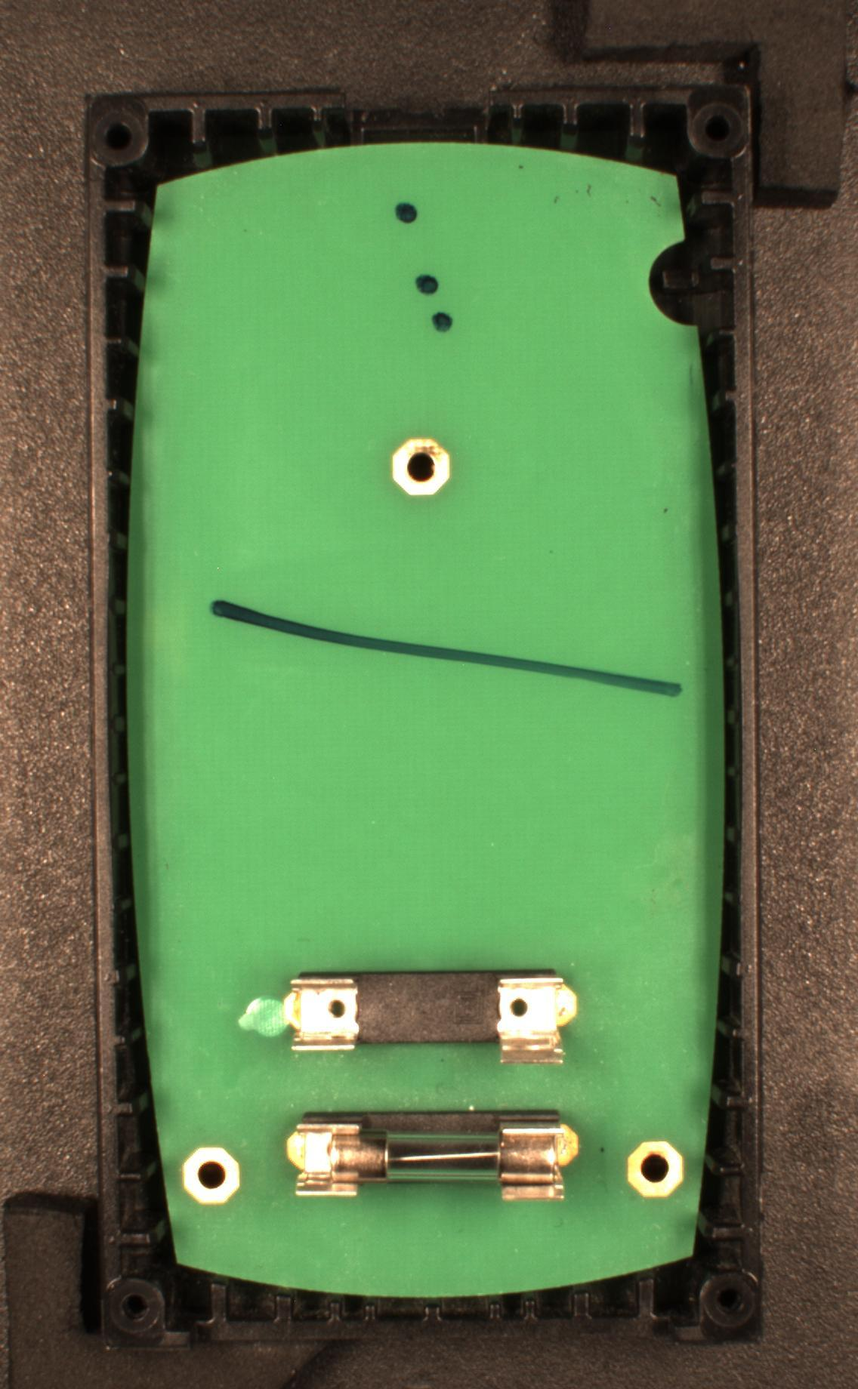Linijsko Ostecene: (210, 599, 684, 703)
Nepostojanje osiguraca: (281, 966, 579, 1068)
Tockasto Ostecenje: (394, 200, 422, 227), (429, 310, 456, 335), (415, 273, 441, 297)
